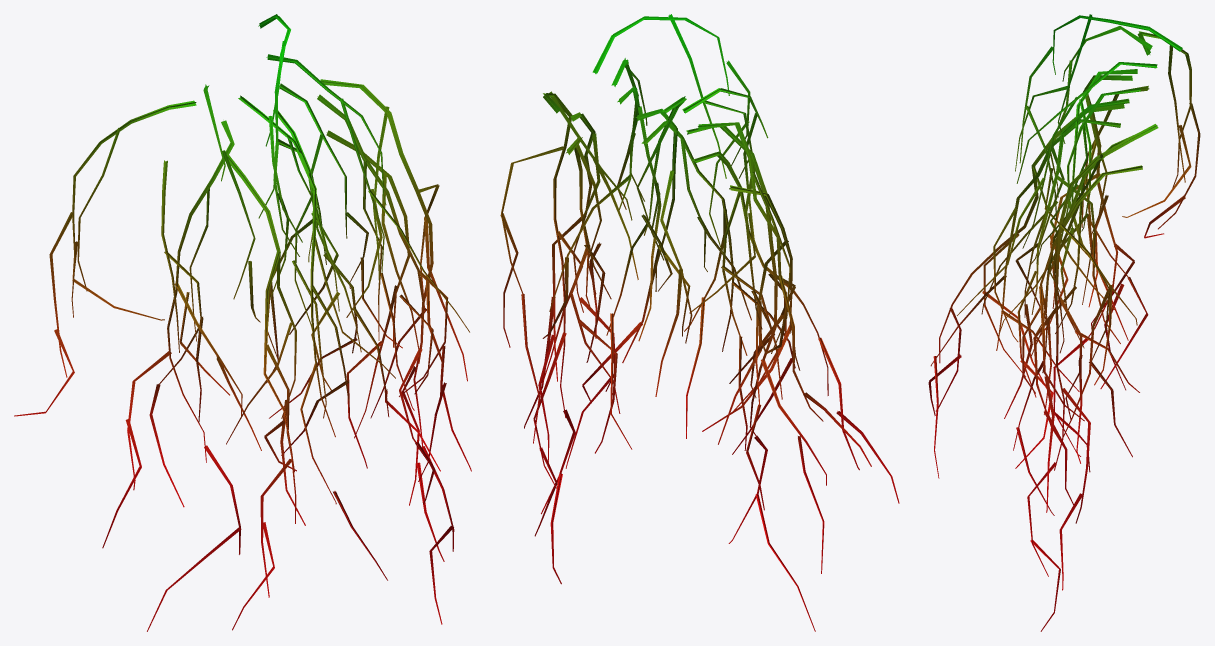
The model's file is Var13_LOD4.fbx.
3 views of the same model, side by side, from view 1: azimuth 30°, elevation 25°; view 2: azimuth 150°, elevation 25°; view 3: azimuth 270°, elevation 25° (orthographic). The views are drawn at different scales.
Parts seen in each view (by area): view 1: _f9ev_Var13_LOD4; view 2: _f9ev_Var13_LOD4; view 3: _f9ev_Var13_LOD4.
Part boxes in pixels (x1,y1,x2,y2): _f9ev_Var13_LOD4: [14, 14, 471, 631]; _f9ev_Var13_LOD4: [500, 14, 899, 631]; _f9ev_Var13_LOD4: [928, 14, 1200, 631].
Bounding box in the file's own units: 116 × 165 × 72.78.
